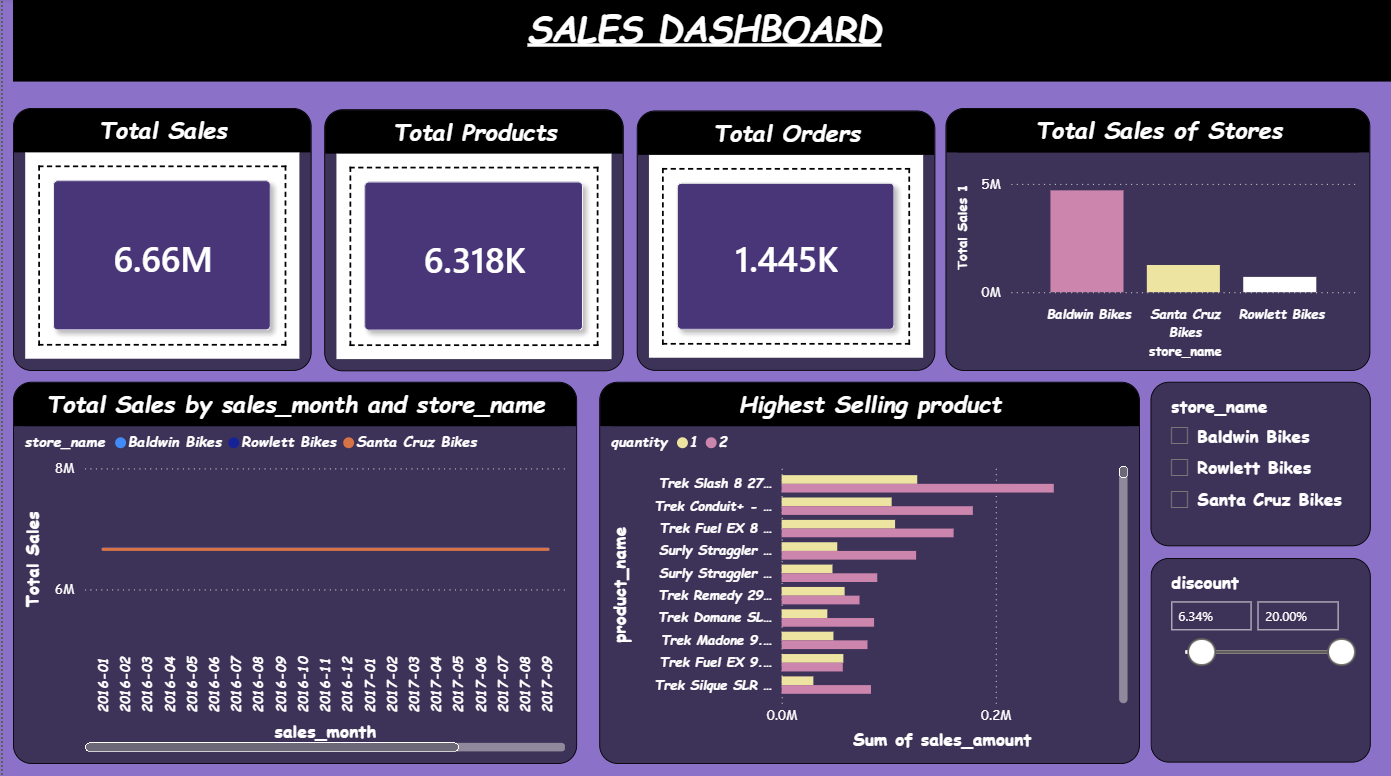

The dashboard page shown, as its layout file describes it:
{"tool":"powerbi","page":{"name":"Sales_Dashboard","canvas":[1280,720],"ordinal":0},"visuals":[{"type":"textbox","box":[9.6,0,1270.7,76.8],"z":0},{"type":"cardVisual","title":"Total Sales","fields":{"Data":["sales_summary1.Total Sales"]},"box":[9.3,101.2,274.4,241.9],"z":1000},{"type":"cardVisual","title":"Total Products","fields":{"Data":["sales_summary1.Total Products Sold"]},"box":[295.3,102.3,275.6,240.7],"z":2000},{"type":"cardVisual","title":"Total Orders","fields":{"Data":["sales_summary1.Total Orders"]},"box":[582.6,103.5,274.4,239.5],"z":3000},{"type":"clusteredBarChart","title":"Highest Selling product","fields":{"Category":["sales_summary1.product_name"],"Y":["Sum(sales_summary1.sales_amount)"],"Series":["sales_summary1.quantity"]},"box":[547.7,352.3,496.5,351.2],"z":4000},{"type":"clusteredColumnChart","title":"Total Sales of Stores","fields":{"Y":["sales_summary.Total Sales 1"],"Category":["sales_summary.store_name"]},"box":[866.3,101.2,390.7,241.9],"z":5000},{"type":"lineChart","fields":{"Category":["sales_summary1.sales_month"],"Y":["sales_summary1.Total Sales"],"Series":["sales_summary1.store_name"]},"box":[9.3,352.3,518.6,351.2],"z":6000},{"type":"slicer","fields":{"Values":["sales_summary1.store_name"]},"box":[1054.7,352.3,202.3,151.2],"z":7000},{"type":"slicer","fields":{"Values":["sales_summary1.discount"]},"box":[1054.7,515.1,202.3,188.4],"z":8000}]}

Visuals, with their boxes in screenshot pixels (x1, y1, x2, y2), scaled from the page's 1280x720 canvas onto the 1391x776 screenshot:
textbox: bbox=[10, 0, 1390, 83]
"Total Sales" cardVisual: bbox=[10, 109, 308, 370]
"Total Products" cardVisual: bbox=[321, 110, 620, 370]
"Total Orders" cardVisual: bbox=[633, 112, 931, 370]
"Highest Selling product" clusteredBarChart: bbox=[595, 380, 1135, 758]
"Total Sales of Stores" clusteredColumnChart: bbox=[941, 109, 1366, 370]
lineChart - sales_summary1.sales_month x sales_summary1.Total Sales: bbox=[10, 380, 574, 758]
slicer - sales_summary1.store_name: bbox=[1146, 380, 1366, 543]
slicer - sales_summary1.discount: bbox=[1146, 555, 1366, 758]
